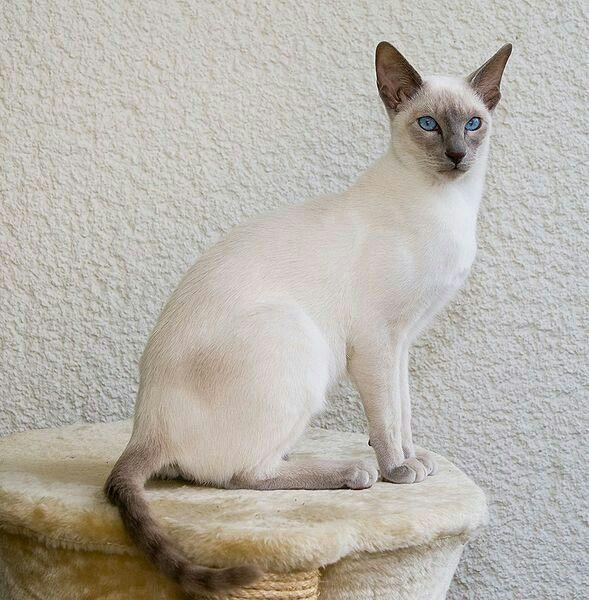siamese: (370, 35, 519, 196)
